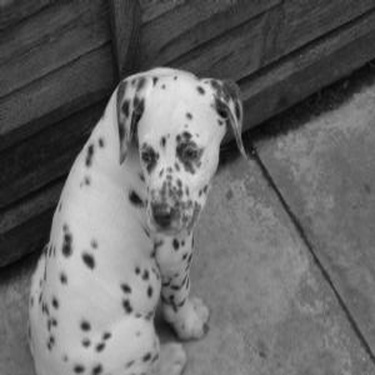dog: (19, 55, 250, 372)
